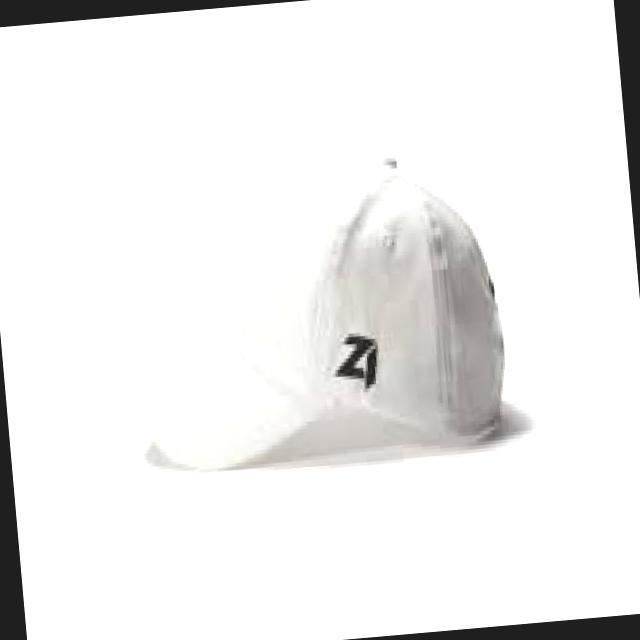cap: (107, 102, 532, 542)
